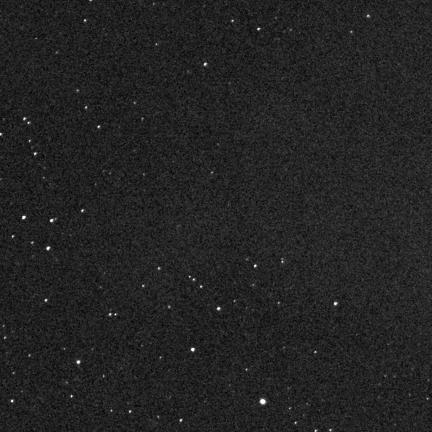blob: (260, 399, 267, 405), (22, 216, 26, 219)
